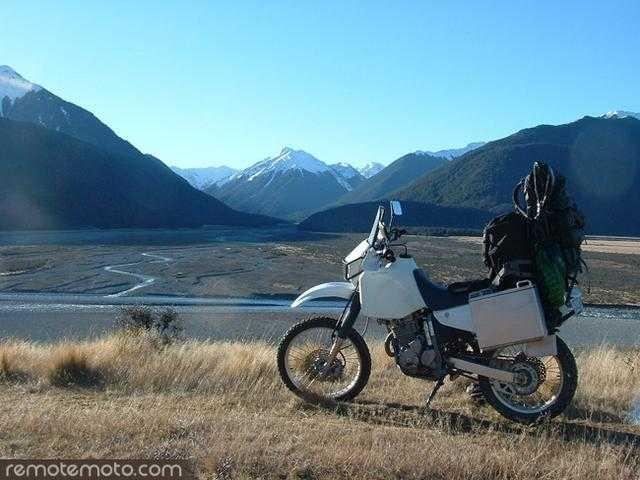motorbike: (271, 200, 581, 424)
